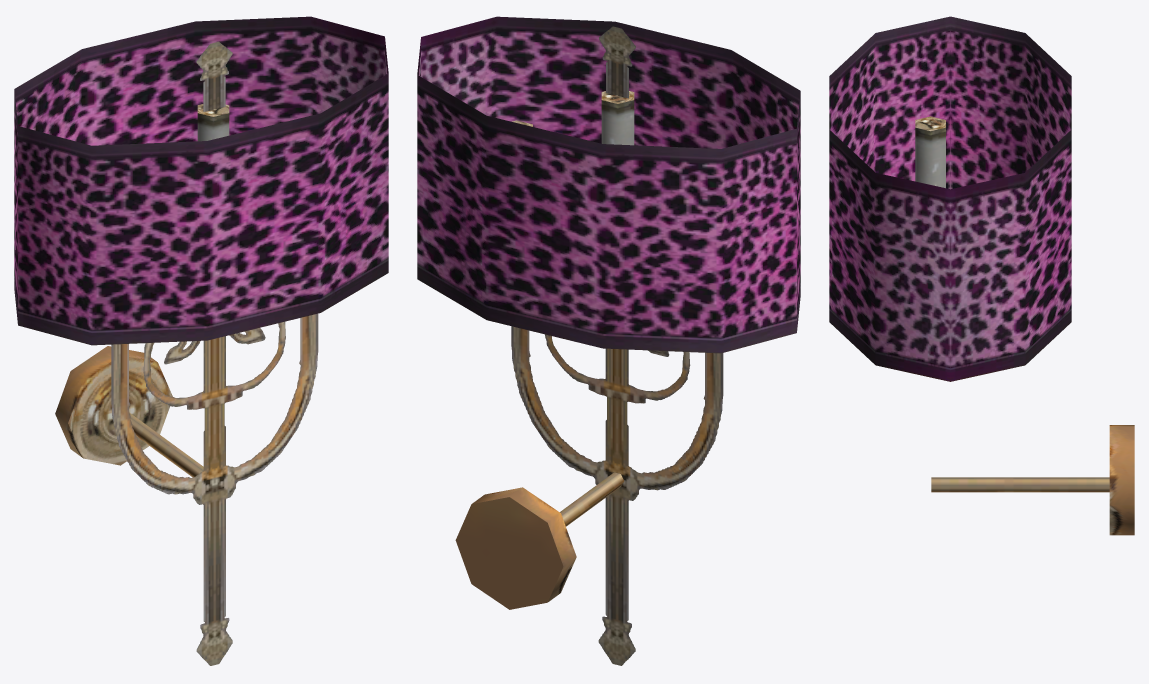
Rendered from furni_0200149_02.FBX.
3 renders of one model, left to right at view 1: azimuth 30°, elevation 25°; view 2: azimuth 150°, elevation 25°; view 3: azimuth 270°, elevation 25°, orthographic. The views are drawn at different scales.
Parts seen in each view (by area): view 1: furni_0200149_02; view 2: furni_0200149_02; view 3: furni_0200149_02.
Part boxes in pixels (box(x1,y1,x2,y2)): furni_0200149_02: box(14, 16, 388, 665); furni_0200149_02: box(417, 16, 800, 665); furni_0200149_02: box(829, 16, 1134, 535).
Bounding box in the file's own units: 33.28 × 53.94 × 24.85.
1 material, 1 textured.
